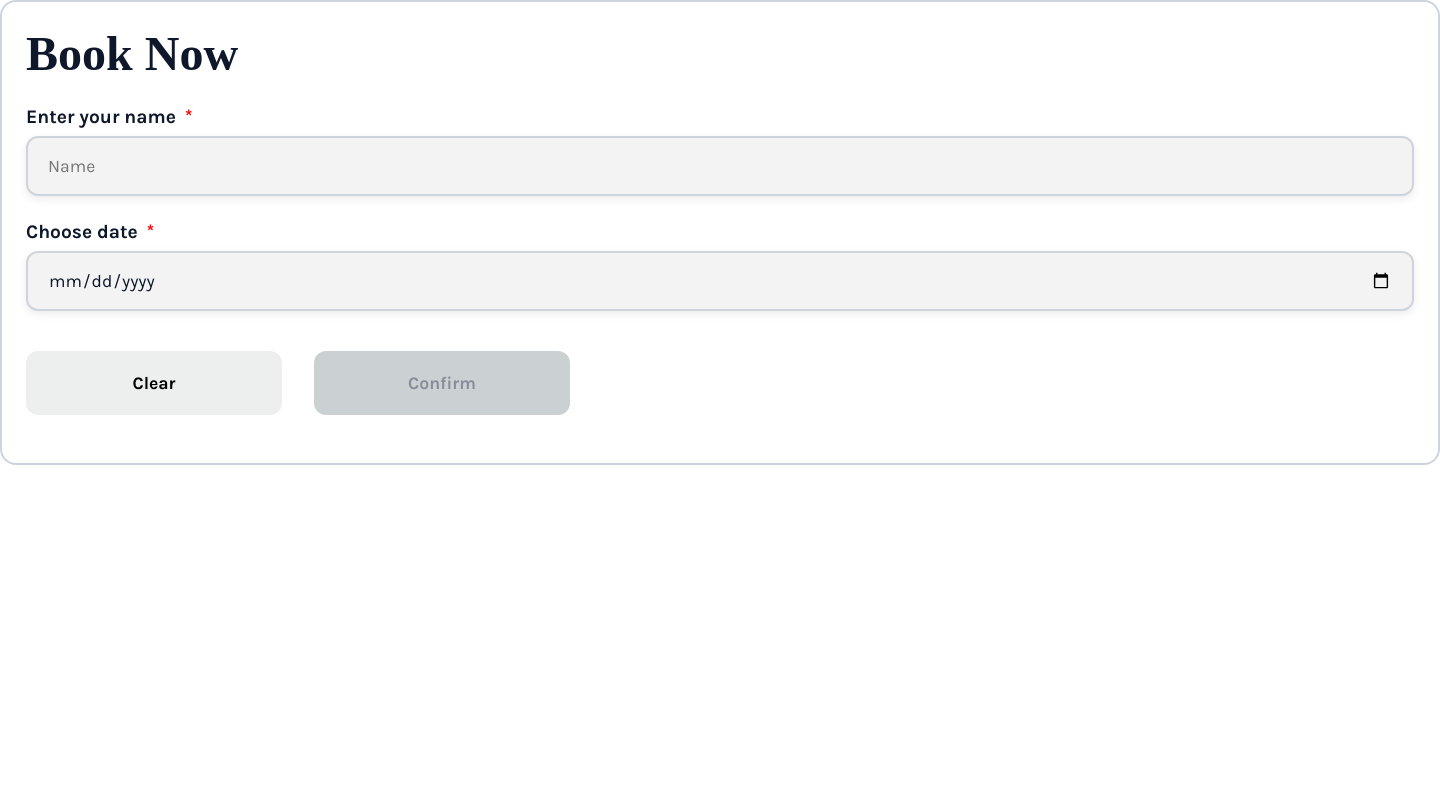
Test: shows time slots after selecting a date
In the date field labelled "Choose date *": (720, 281) [26, 251, 1414, 311], type "2099-06-10"
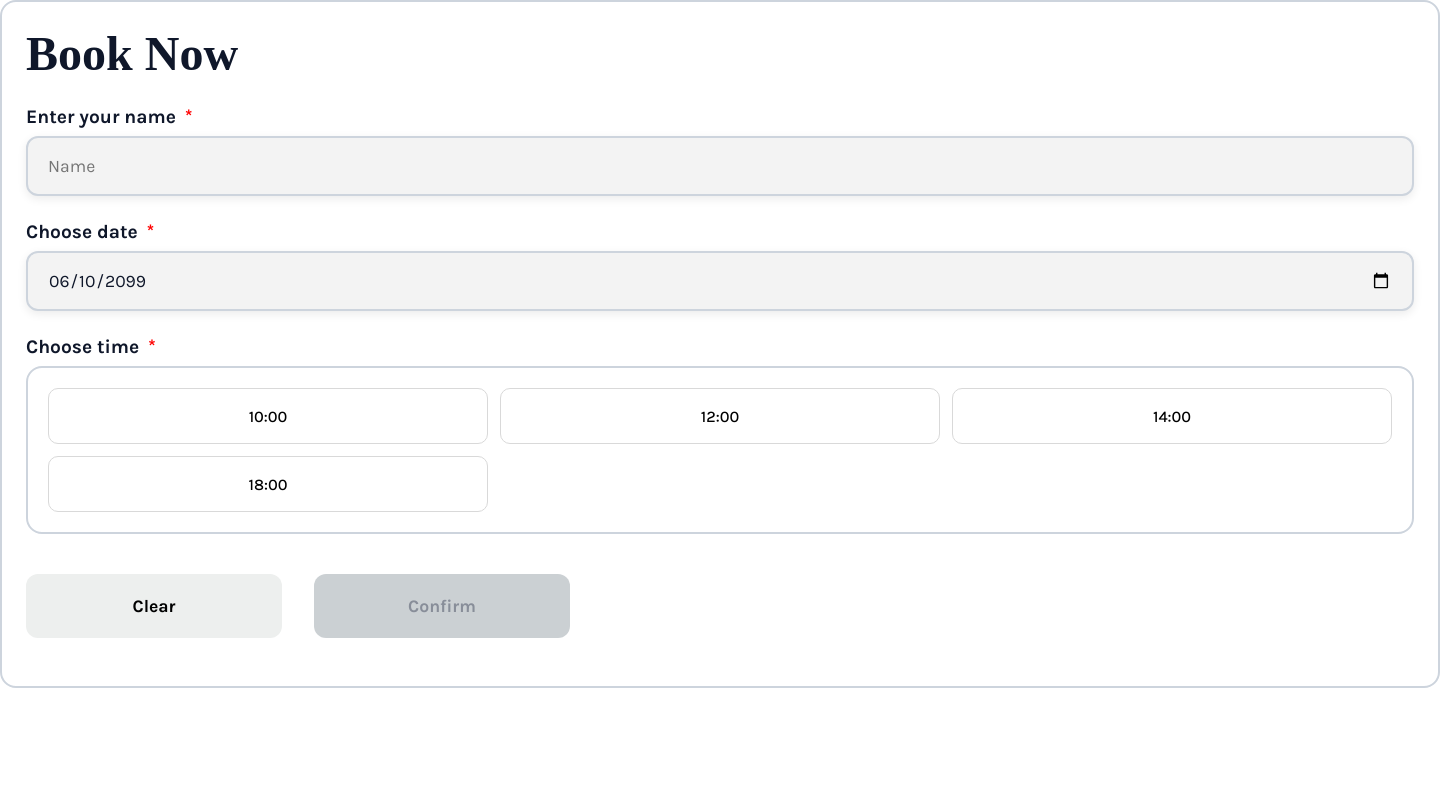
expect the button "10:00" is shown: met, box [48, 388, 488, 444]
expect the button "18:00" is shown: met, box [48, 456, 488, 512]
